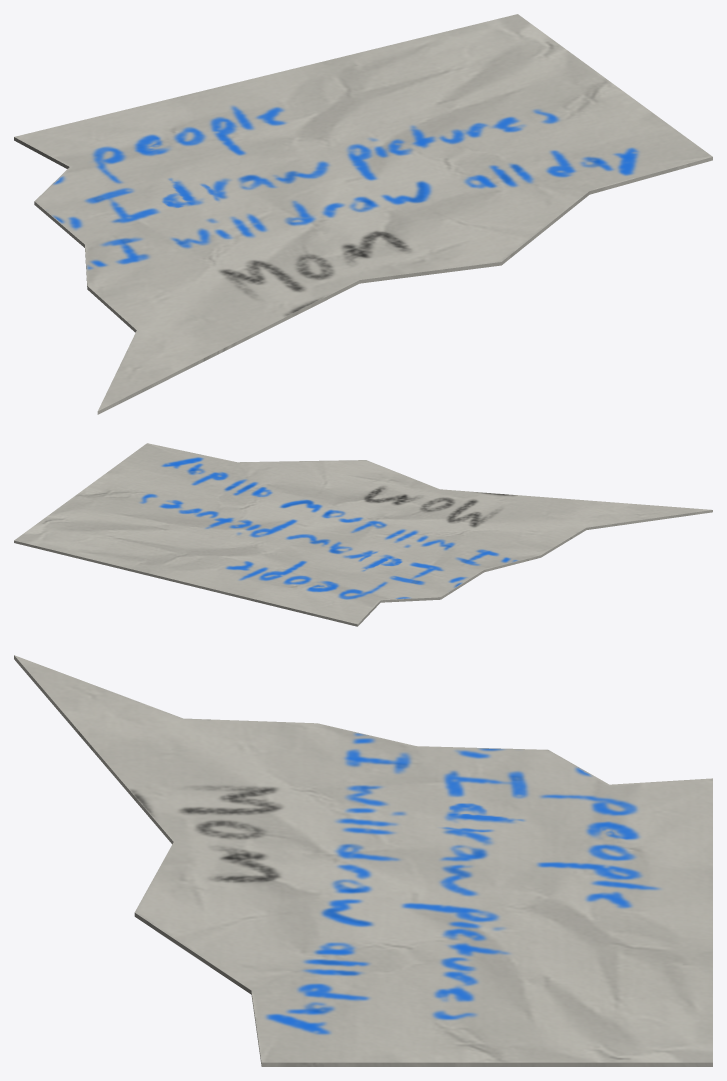
File: DrawingFragments5.fbx
3 renders of one model, top to bottom at view 1: azimuth 30°, elevation 25°; view 2: azimuth 150°, elevation 25°; view 3: azimuth 270°, elevation 25°, orthographic. The views are drawn at different scales.
Visible parts, largest first — view 1: Fragment_5; view 2: Fragment_5; view 3: Fragment_5.
Boxes of the visible parts, x1,y1,x2,y2 form: Fragment_5: [14, 14, 712, 414]; Fragment_5: [14, 443, 712, 626]; Fragment_5: [14, 655, 712, 1066].
Size of the model in its own units: 261 by 1.22 by 189.
